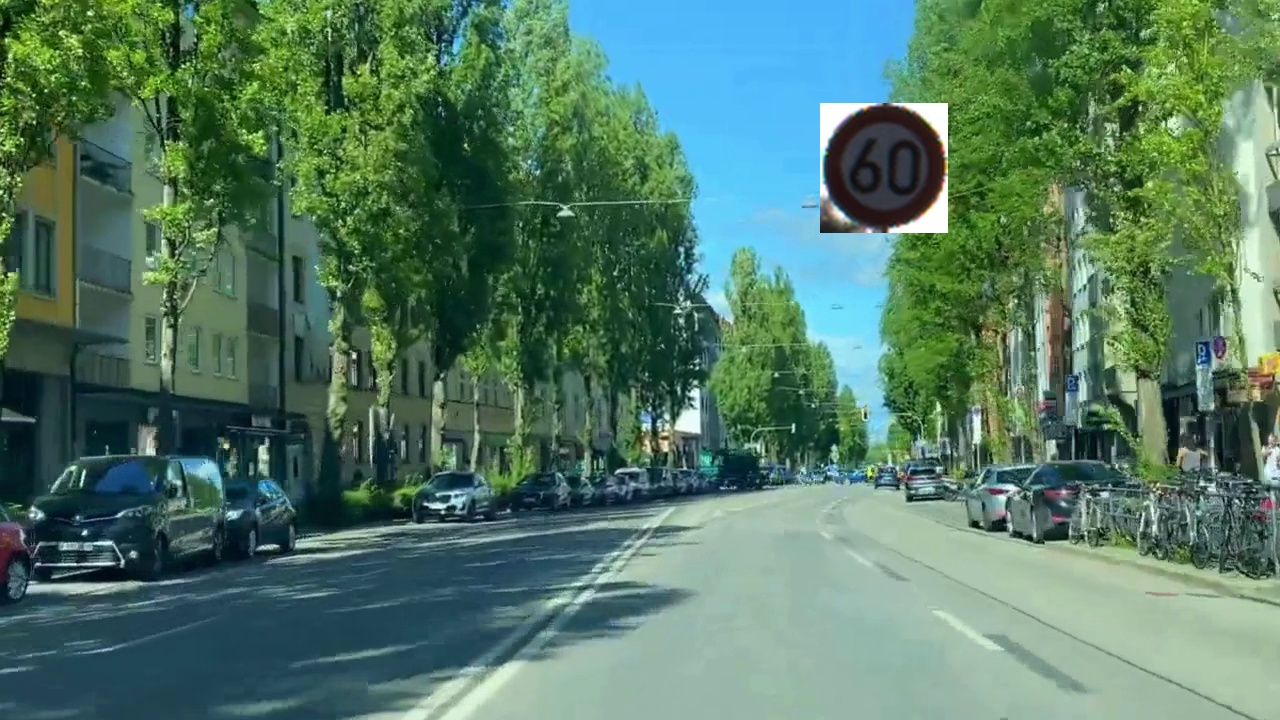Speed 60: (820, 103, 948, 233)
